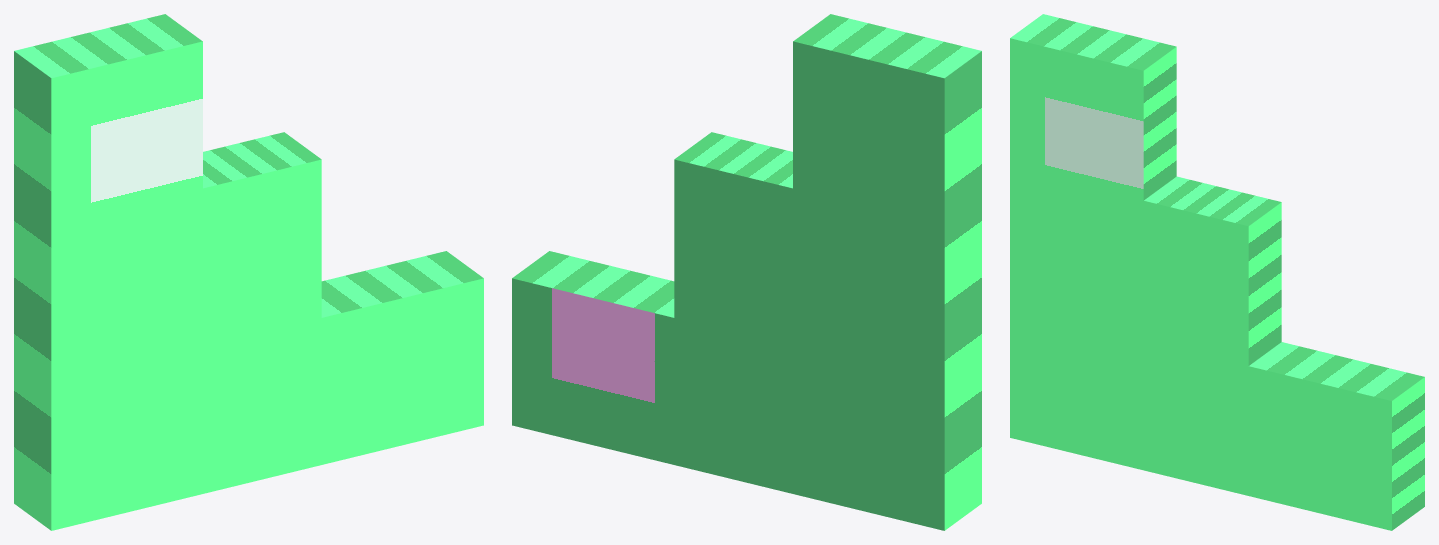
3 renders of one model, left to right at view 1: azimuth 30°, elevation 25°; view 2: azimuth 150°, elevation 25°; view 3: azimuth 330°, elevation 25°, orthographic. The views are drawn at different scales.
Bounding box in the file's own units: 1.3 × 1.3 × 0.195.
1 material, 1 textured.
